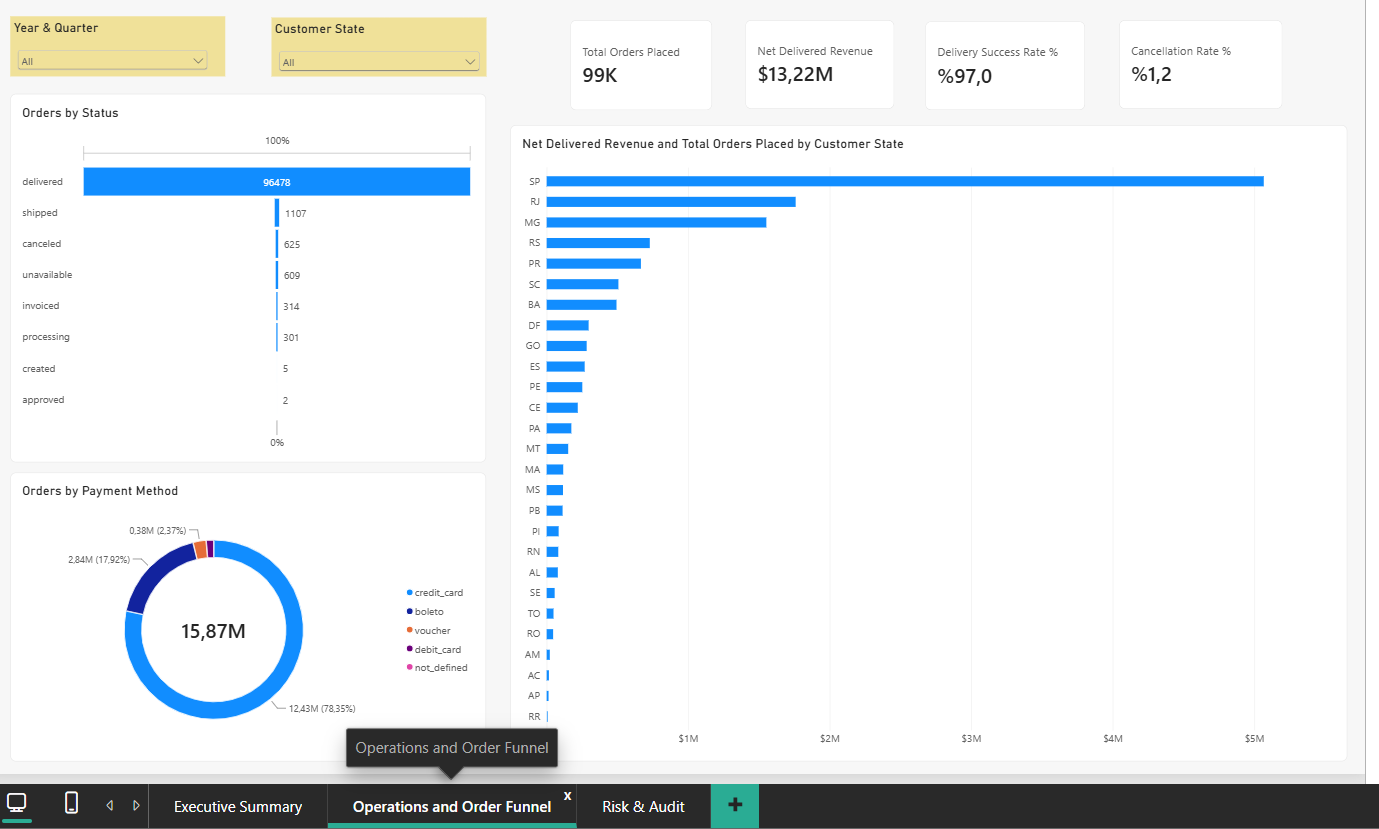

The dashboard page shown, as its layout file describes it:
{"tool":"powerbi","page":{"name":"Operations and Order Funnel","canvas":[1920,1080],"ordinal":1},"visuals":[{"type":"cardVisual","fields":{"Data":["_Measures.Total Orders Placed"]},"box":[810.4,27.6,198,126],"z":0},{"type":"cardVisual","fields":{"Data":["_Measures.Net Delivered Revenue"]},"box":[1054.4,27.6,208,124],"z":1000},{"type":"cardVisual","fields":{"Data":["_Measures.Delivery Success Rate %"]},"box":[1306.4,29.6,223.8,124.4],"z":2000},{"type":"cardVisual","fields":{"Data":["_Measures.Cancellation Rate %"]},"box":[1576.4,27.6,228,124],"z":3000},{"type":"slicer","title":"Year & Quarter","fields":{"Values":["olist_analytics_warehouse dim_date.date_key.Variation.Tarih Hiyerarşisi.Yıl","olist_analytics_warehouse dim_date.date_key.Variation.Tarih Hiyerarşisi.Çeyrek"]},"box":[30,22,300,84],"z":4000},{"type":"slicer","title":"Customer State","fields":{"Values":["olist_analytics_warehouse dim_customers.customer_state"]},"box":[394,24,300,82],"z":5000},{"type":"funnel","title":"Orders by Status","fields":{"Category":["olist_analytics_warehouse clean_orders.order_status"],"Y":["_Measures.Total Orders Placed"]},"box":[30,130,664,514],"z":6000},{"type":"donutChart","title":"Orders by Payment Method","fields":{"Category":["olist_analytics_warehouse fact_payments.payment_type"],"Y":["_Measures.Total Payment Value"]},"box":[30.2,659.1,664.4,403.3],"z":7000},{"type":"clusteredBarChart","title":"Net Delivered Revenue and Total Orders Placed by Customer State","fields":{"Category":["olist_analytics_warehouse dim_customers.customer_state"],"Y":["_Measures.Net Delivered Revenue"]},"box":[728,174,1168,888],"z":8000}]}

Visuals, with their boxes on the page's 1920x1080 design canvas (x1, y1, x2, y2). These are canvas units, not pixel positions in the 1379x829 screenshot, which may show the page scaled, cropped or inside an application window:
cardVisual - _Measures.Total Orders Placed: {"x1": 810, "y1": 28, "x2": 1008, "y2": 154}
cardVisual - _Measures.Net Delivered Revenue: {"x1": 1054, "y1": 28, "x2": 1262, "y2": 152}
cardVisual - _Measures.Delivery Success Rate %: {"x1": 1306, "y1": 30, "x2": 1530, "y2": 154}
cardVisual - _Measures.Cancellation Rate %: {"x1": 1576, "y1": 28, "x2": 1804, "y2": 152}
"Year & Quarter" slicer: {"x1": 30, "y1": 22, "x2": 330, "y2": 106}
"Customer State" slicer: {"x1": 394, "y1": 24, "x2": 694, "y2": 106}
"Orders by Status" funnel: {"x1": 30, "y1": 130, "x2": 694, "y2": 644}
"Orders by Payment Method" donutChart: {"x1": 30, "y1": 659, "x2": 695, "y2": 1062}
"Net Delivered Revenue and Total Orders Placed by Customer State" clusteredBarChart: {"x1": 728, "y1": 174, "x2": 1896, "y2": 1062}
